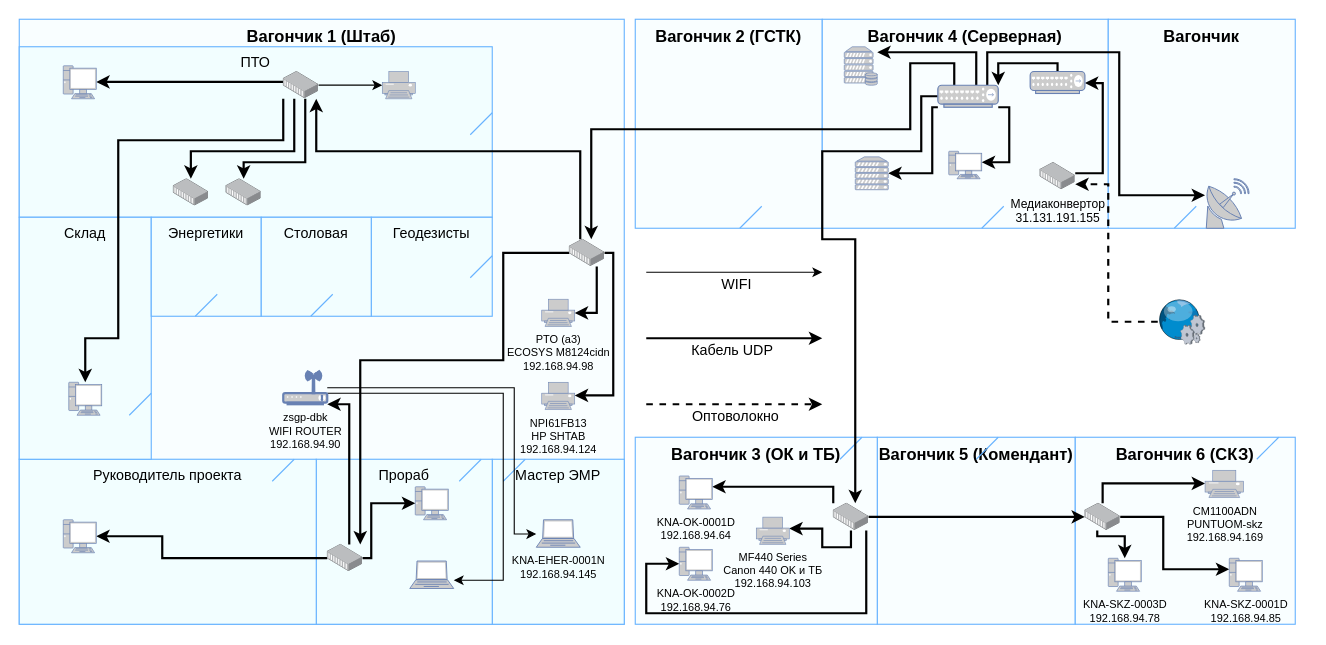
Image size: 1326x645. Some labels were removed from this diagram. Each missing label, with the centre of its shape:
KMS-DBK 192.168.94.2: (860,65)
KNA-ADMIN-0001D 192.168.94.88: (964,164)
KNA-MAS-0001N 192.168.94.89: (431,574)
KNA-PTO-0002D 192.168.94.195: (79,81)
KNA-RP-0001D boss 192.168.94.83: (79,535)
KNA-SKLAD-0002D 192.168.94.127: (84,398)
Komsomolsk 192.168.94.1: (1056,82)
MES2348P 192.168.94.81: (967,96)
PRORAB-KMS-002-P 192.168.94.121: (431,502)
TSN-MF-013 Плоттер ПТО HP 192.168.94.106: (398,84)
Видеорегистратор 192.168.94.77: (871,172)
Направленный WIFI роутер (Крыша) 192.168.94.41: (1226,203)
Провайдер Дальтек: (1180,321)
